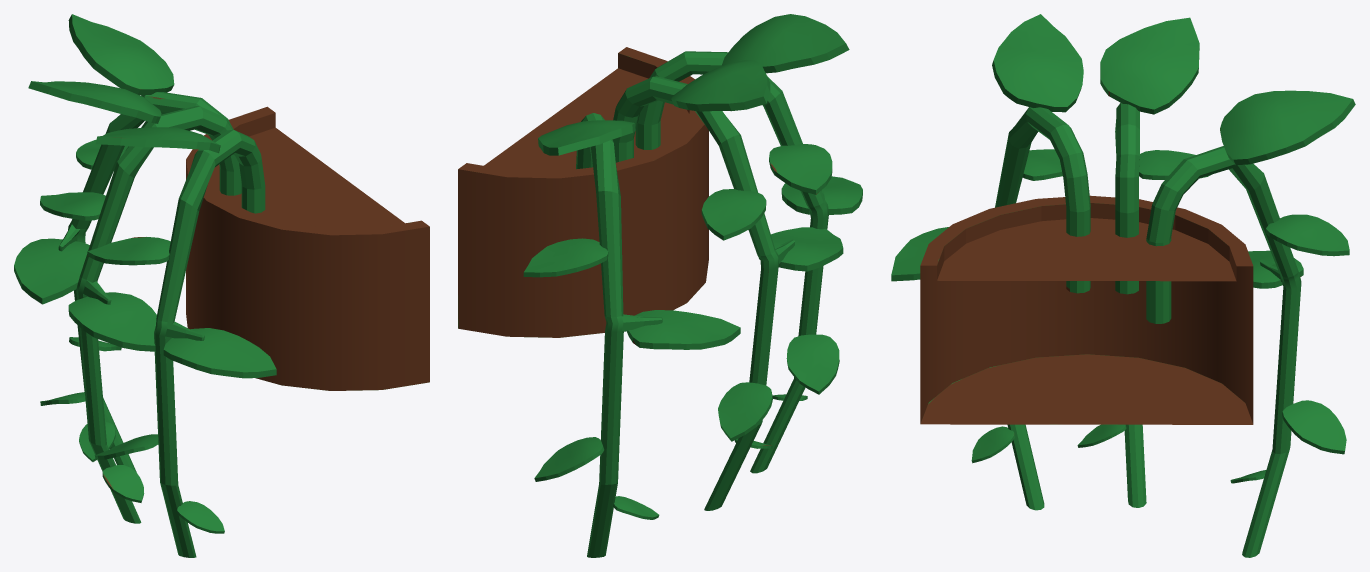
Rendered from plant on the wall textured.fbx.
The picture shows the model from 3 angles, left to right: view 1: azimuth 30°, elevation 25°; view 2: azimuth 150°, elevation 25°; view 3: azimuth 270°, elevation 25°; orthographic projection. The views are drawn at different scales.
Parts seen in each view (by area): view 1: pasted__pasted__pPlane2; view 2: pasted__pasted__pPlane2; view 3: pasted__pasted__pPlane2.
Boxes of the visible parts, x1=… form: pasted__pasted__pPlane2: x1=14, y1=14, x2=429, y2=557; pasted__pasted__pPlane2: x1=458, y1=14, x2=862, y2=557; pasted__pasted__pPlane2: x1=891, y1=14, x2=1355, y2=557.
Size of the model in its own units: 1.96 by 3.12 by 2.79.
